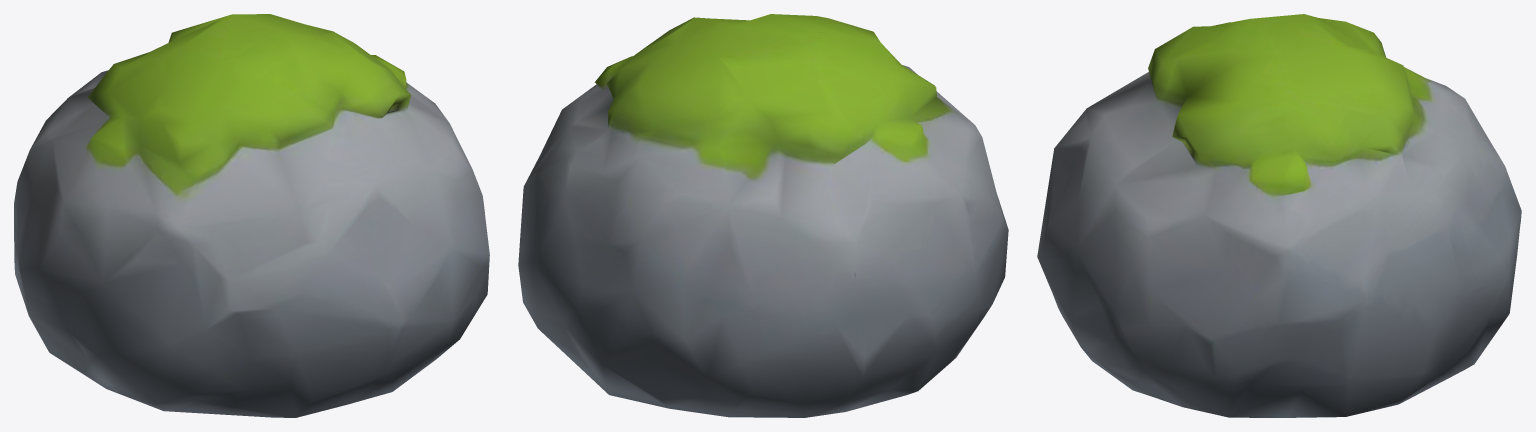
The model's file is rock-a.glb.
3 renders of one model, left to right at view 1: azimuth 30°, elevation 25°; view 2: azimuth 150°, elevation 25°; view 3: azimuth 270°, elevation 25°, orthographic.
Parts seen in each view (by area): view 1: tripo_node_d5dfefa0-44d6-4b02-8ea4-9b70e38203e3; view 2: tripo_node_d5dfefa0-44d6-4b02-8ea4-9b70e38203e3; view 3: tripo_node_d5dfefa0-44d6-4b02-8ea4-9b70e38203e3.
Boxes of the visible parts, left/top/right/bottom form: tripo_node_d5dfefa0-44d6-4b02-8ea4-9b70e38203e3: left=14, top=14, right=489, bottom=417; tripo_node_d5dfefa0-44d6-4b02-8ea4-9b70e38203e3: left=518, top=14, right=1008, bottom=417; tripo_node_d5dfefa0-44d6-4b02-8ea4-9b70e38203e3: left=1037, top=14, right=1521, bottom=417.
Bounding box in the file's own units: 1 × 0.6783 × 0.9976.
Materials: 1 (1 with a texture image).
